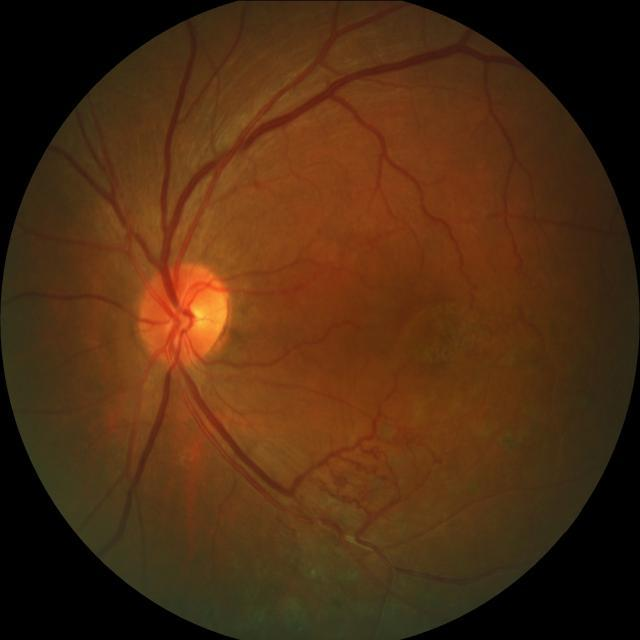OC: (170, 298, 208, 336)
OD: (134, 260, 228, 366)
